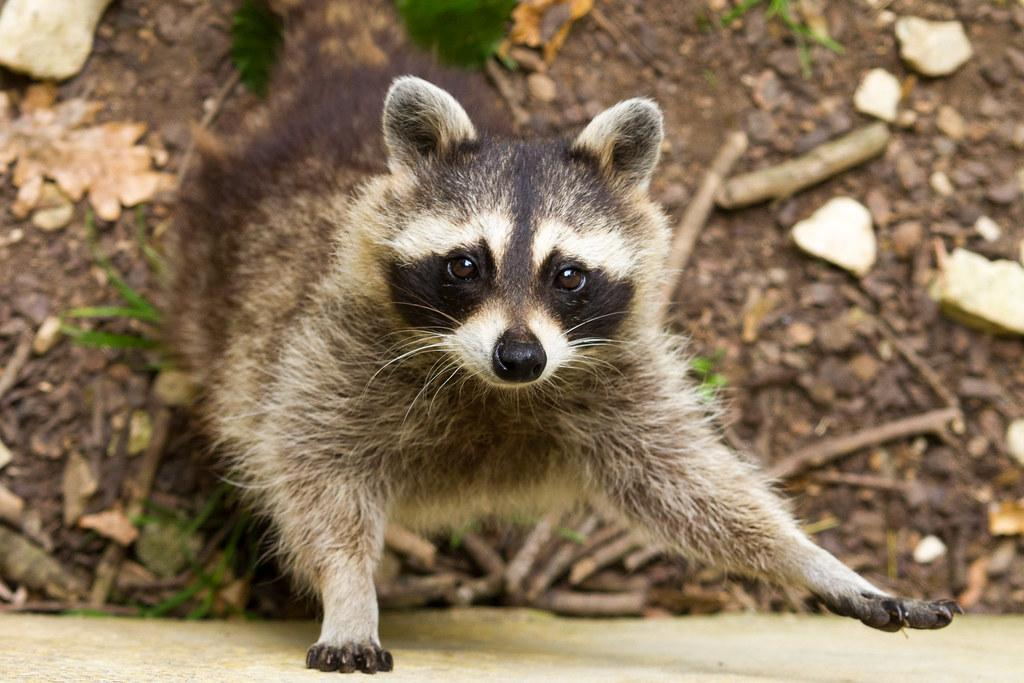raccoon: (165, 50, 964, 673)
